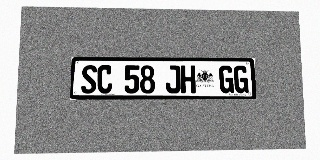5: (124, 65, 140, 93)
8: (140, 65, 155, 93)
C: (97, 65, 113, 94)
G: (219, 66, 234, 93), (234, 66, 249, 93)
H: (181, 65, 196, 93)
J: (166, 65, 180, 93)
S: (81, 65, 97, 94)
